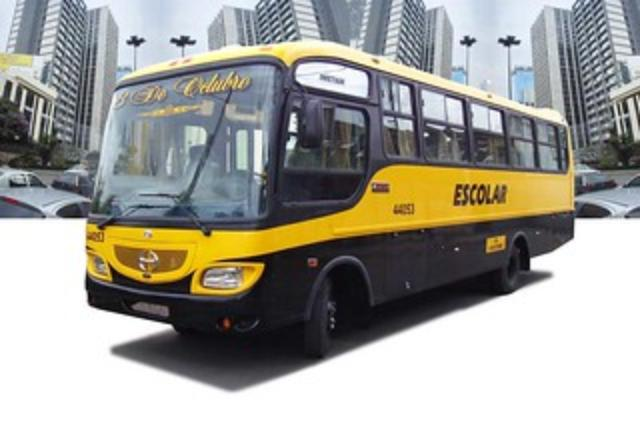bus: (84, 38, 574, 360)
